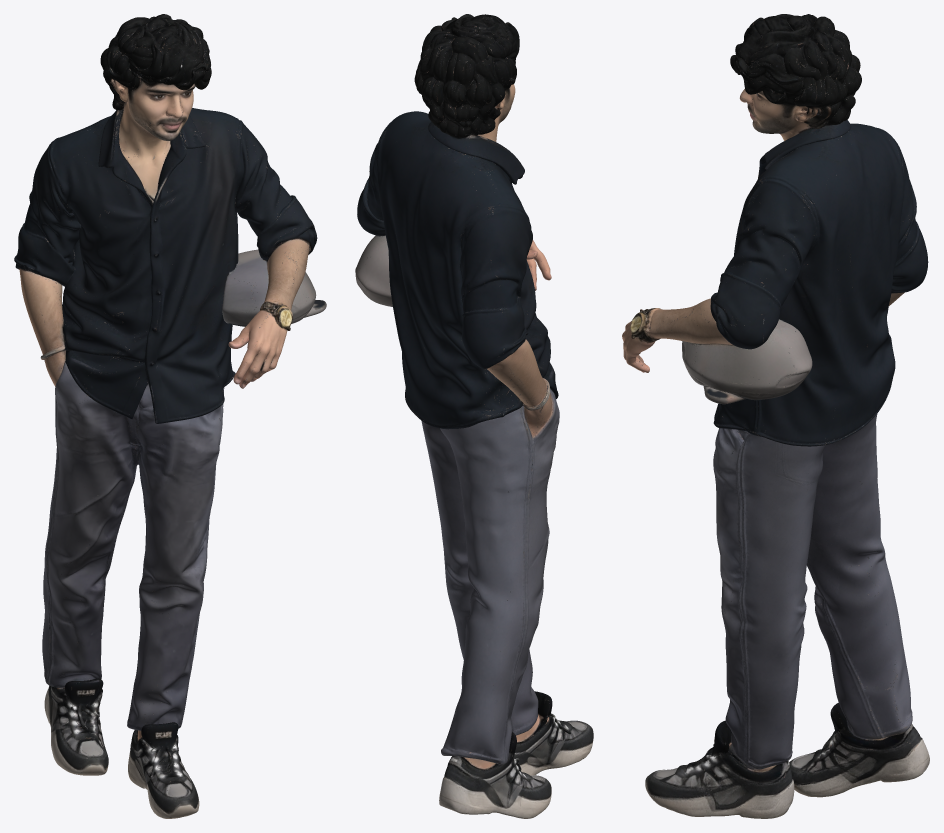
The picture shows the model from 3 angles, left to right: view 1: azimuth 30°, elevation 25°; view 2: azimuth 150°, elevation 25°; view 3: azimuth 270°, elevation 25°; orthographic projection. The views are drawn at different scales.
Parts seen in each view (by area): view 1: mesh_node; view 2: mesh_node; view 3: mesh_node.
Part boxes in pixels (x1=…): mesh_node: x1=14, y1=14, x2=326, y2=818; mesh_node: x1=355, y1=14, x2=593, y2=818; mesh_node: x1=622, y1=14, x2=929, y2=818.
Bounding box in the file's own units: 0.6089 × 1.9 × 0.6596.
Materials: 1 (1 with a texture image).
